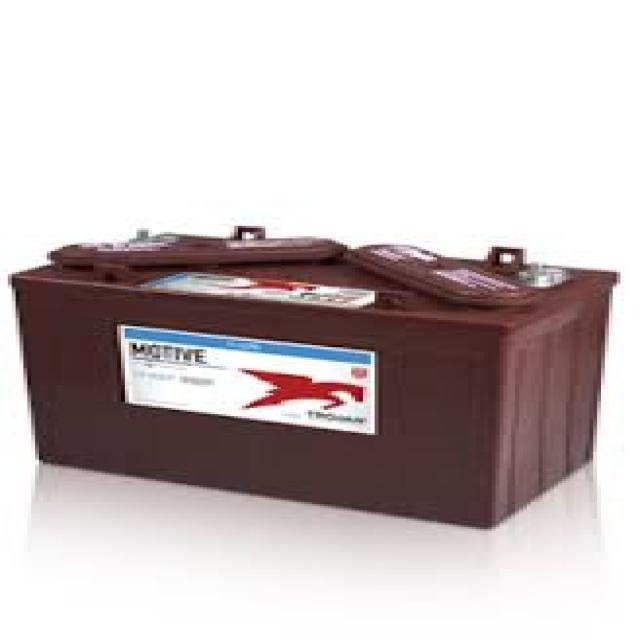Battery: (0, 200, 628, 556)
